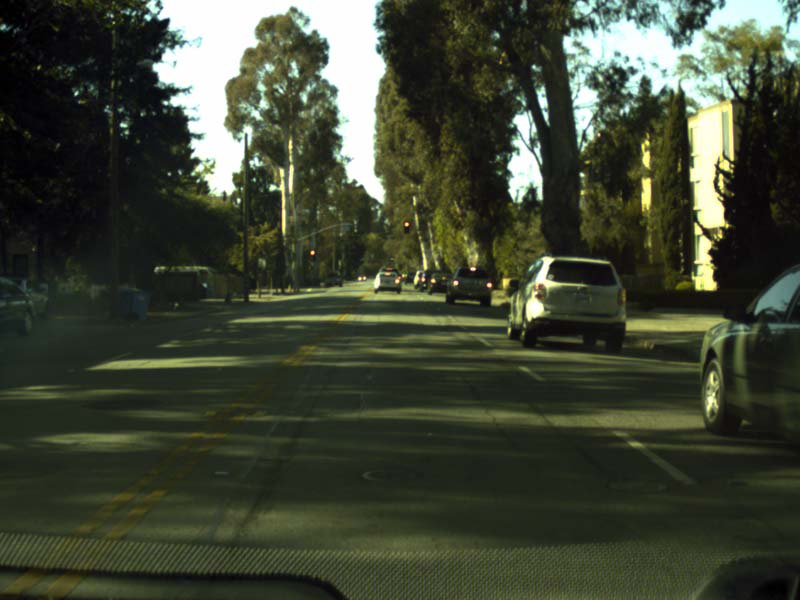Red: (403, 221, 409, 233), (309, 249, 314, 260)
